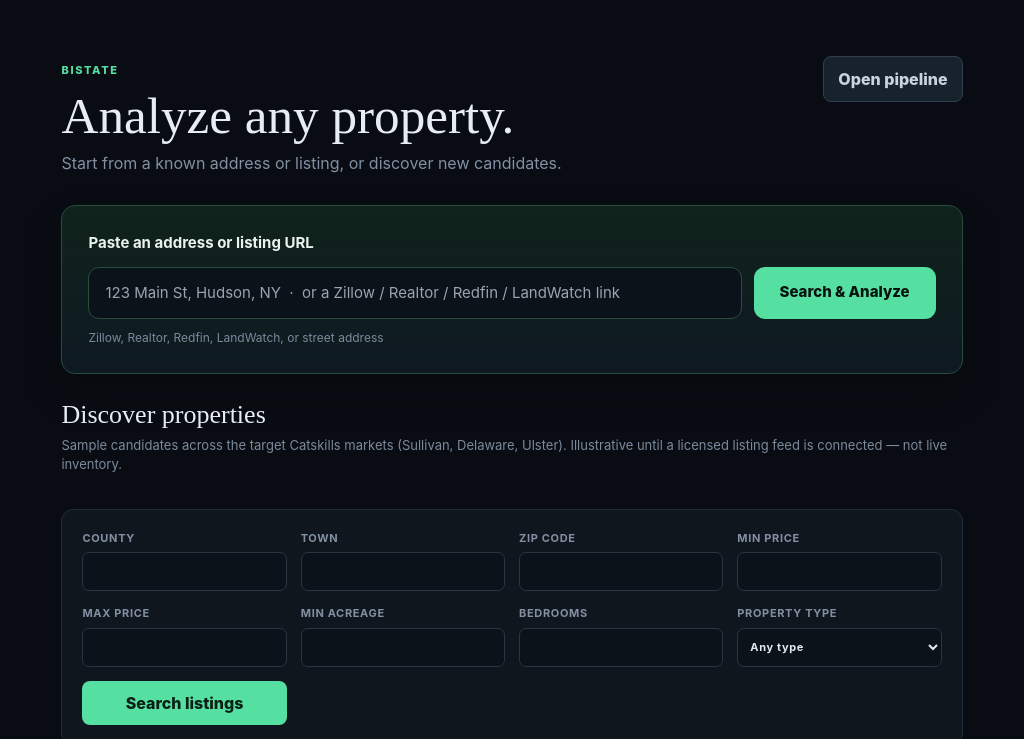
Test: rejects an unsupported listing site before importing
Type "https://example.com/listing/123" into the field labelled "Paste an address or listing URL".
click(415, 292); type("https://example.com/listing/123")  # box top-left (88, 266), bottom-right (742, 318)
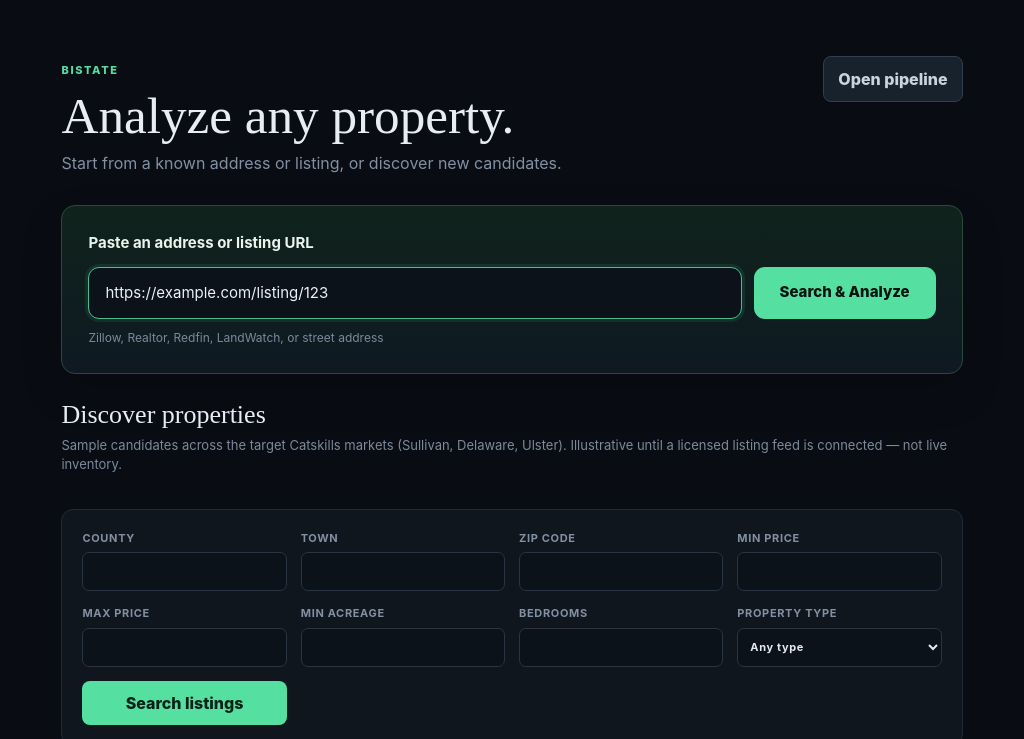
Click the button "Search & Analyze".
click(844, 292)  # box top-left (754, 266), bottom-right (936, 318)
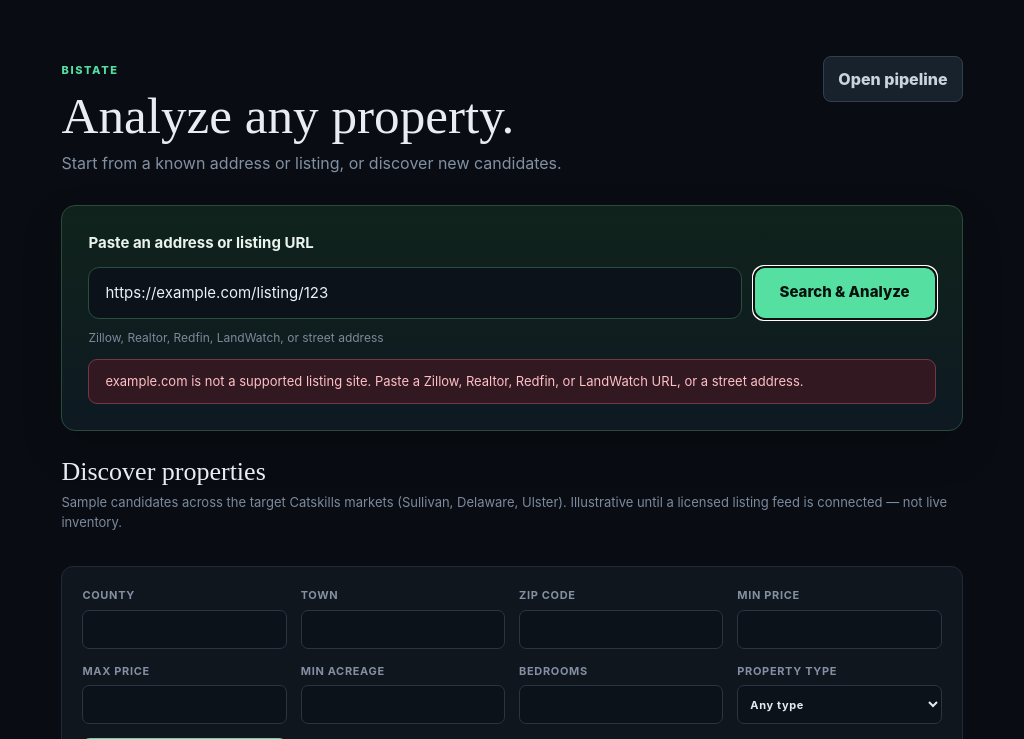
Result: the text "not a supported listing site" is shown at top-left (105, 372), bottom-right (804, 388)
